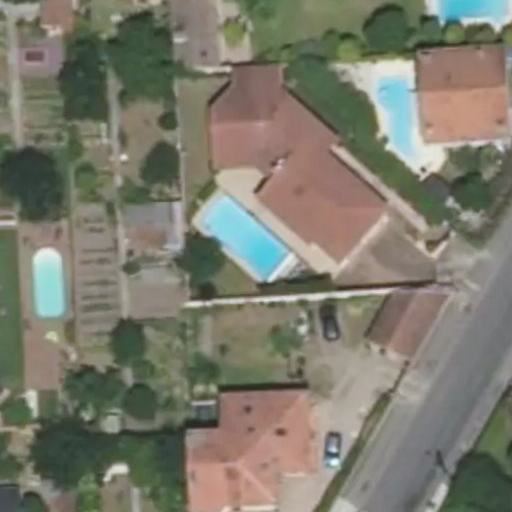pool: (208, 224, 303, 260)
